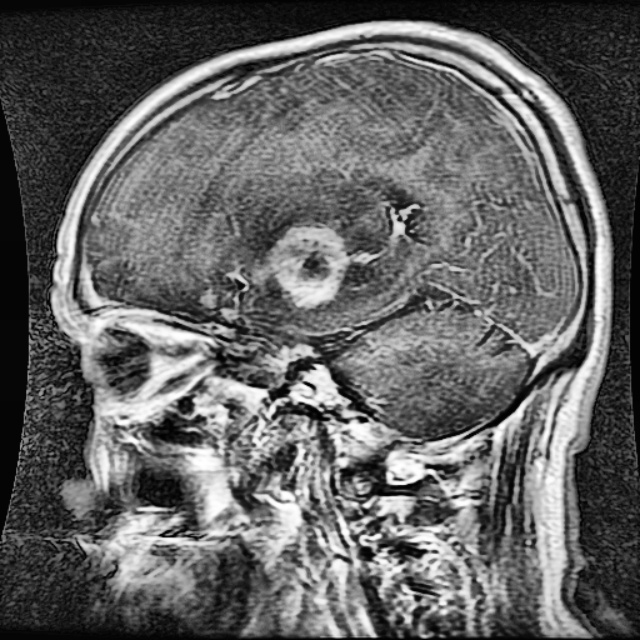Meningioma: (200, 225, 353, 320)
